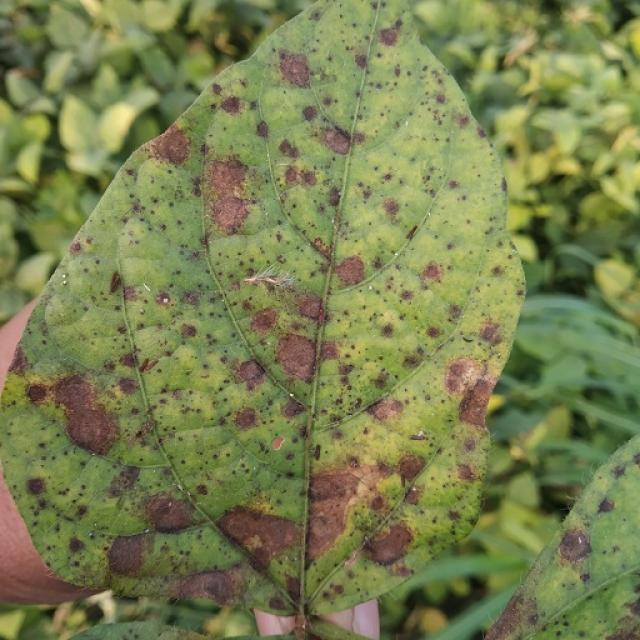Anthracnose: (293, 439, 436, 578), (18, 369, 136, 468), (244, 302, 340, 394), (217, 505, 305, 572), (264, 329, 357, 390), (206, 157, 258, 236), (146, 494, 200, 534), (456, 375, 495, 430), (106, 532, 151, 576), (149, 122, 195, 165), (556, 527, 592, 568), (443, 356, 479, 395), (277, 50, 313, 86), (333, 255, 366, 287), (321, 126, 354, 157), (371, 397, 405, 423), (396, 455, 425, 484), (250, 308, 280, 334), (235, 359, 265, 385), (297, 293, 323, 320), (233, 407, 258, 429), (219, 95, 244, 115), (421, 261, 443, 283), (378, 25, 400, 47), (278, 138, 299, 160), (479, 322, 501, 342), (382, 197, 400, 217), (181, 290, 201, 307), (179, 322, 198, 338)
Blackgram: (0, 0, 524, 635)
